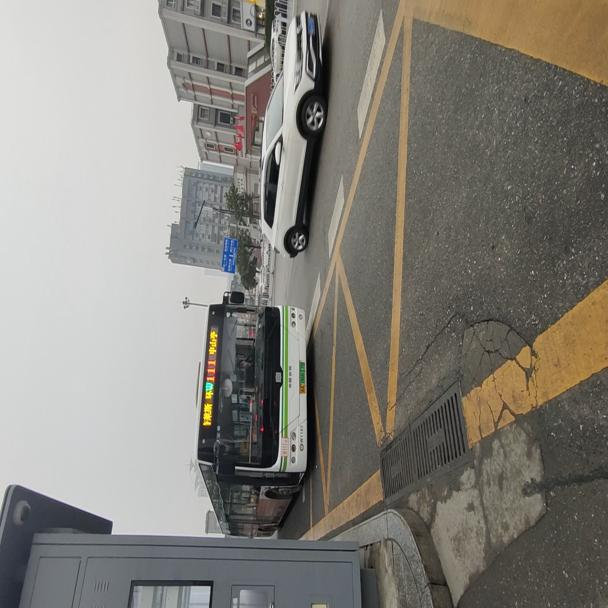bus: (192, 288, 310, 540)
screen: (205, 355, 216, 383)
